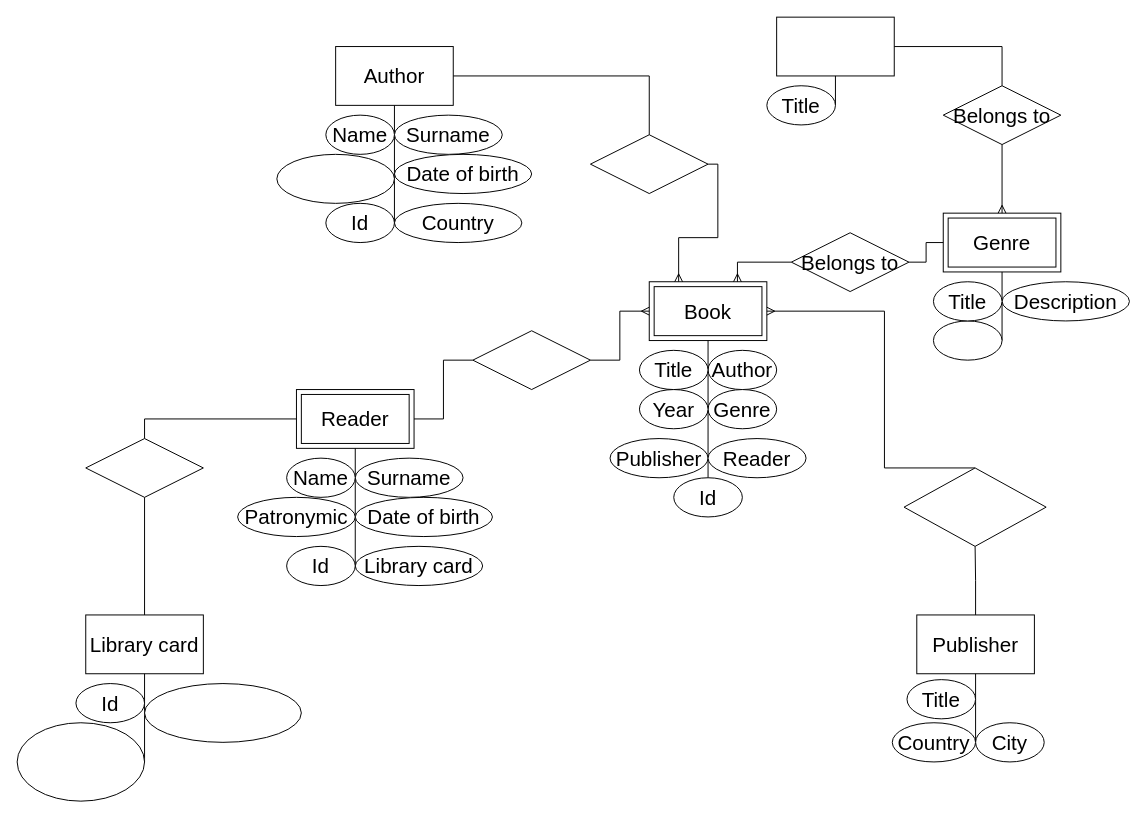
The diagram is 1147 pixels wide and 818 high, and some of its shapes have lost their labels. The centre of each missing label's shape, as x and y in pixels:
Expiration date: point (222, 712)
Form: point (967, 340)
Form of literature: point (835, 46)
Middle name: point (335, 178)
Owned by: point (531, 360)
Owns: point (144, 467)
Published by: point (974, 506)
Registration date: point (80, 761)
Written by: point (648, 164)
